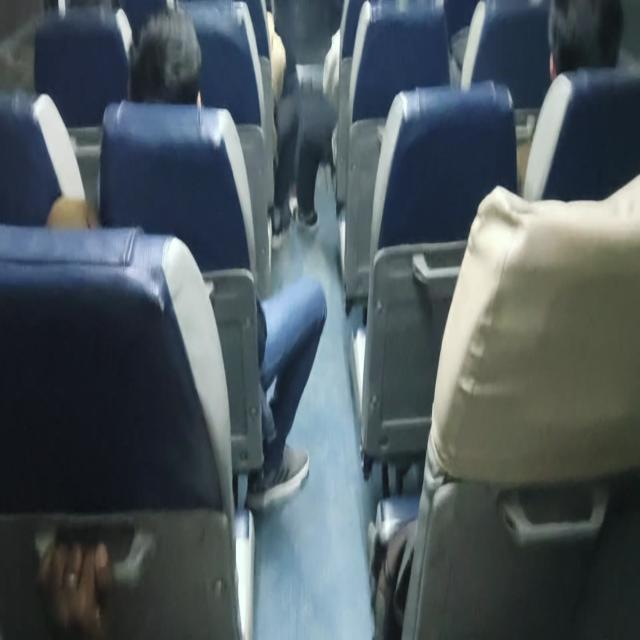person: (46, 6, 328, 514), (523, 0, 626, 197), (245, 273, 328, 513), (36, 527, 116, 638), (129, 6, 202, 105), (546, 0, 624, 82)
